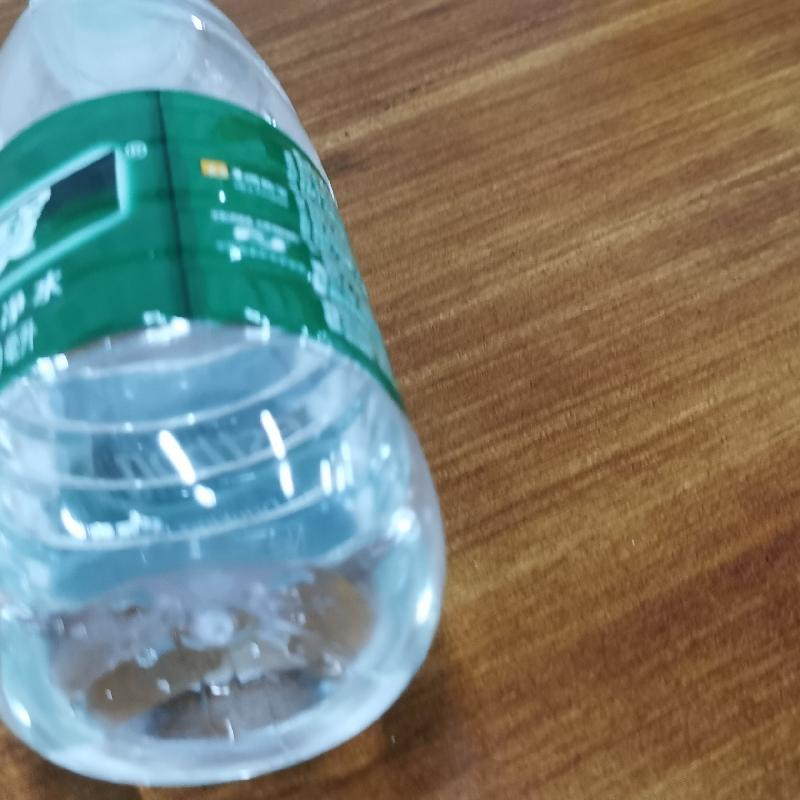bottles: (0, 0, 448, 793)
